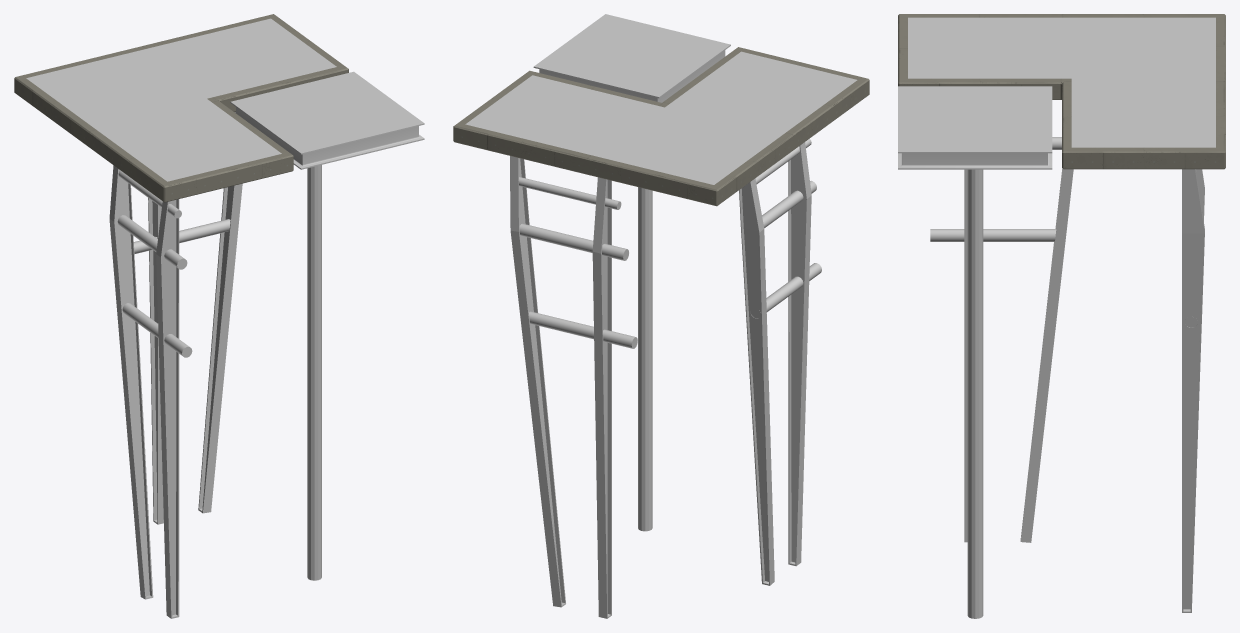
File: PlatformTall.fbx
The picture shows the model from 3 angles, left to right: view 1: azimuth 30°, elevation 25°; view 2: azimuth 150°, elevation 25°; view 3: azimuth 270°, elevation 25°; orthographic projection. The views are drawn at different scales.
Parts seen in each view (by area): view 1: PlatformTall; view 2: PlatformTall; view 3: PlatformTall.
Part boxes in pixels (x1,y1,x2,y2): PlatformTall: (14,14,424,618); PlatformTall: (453,14,869,618); PlatformTall: (898,14,1225,618).
Size of the model in its own units: 500 by 851 by 500.
